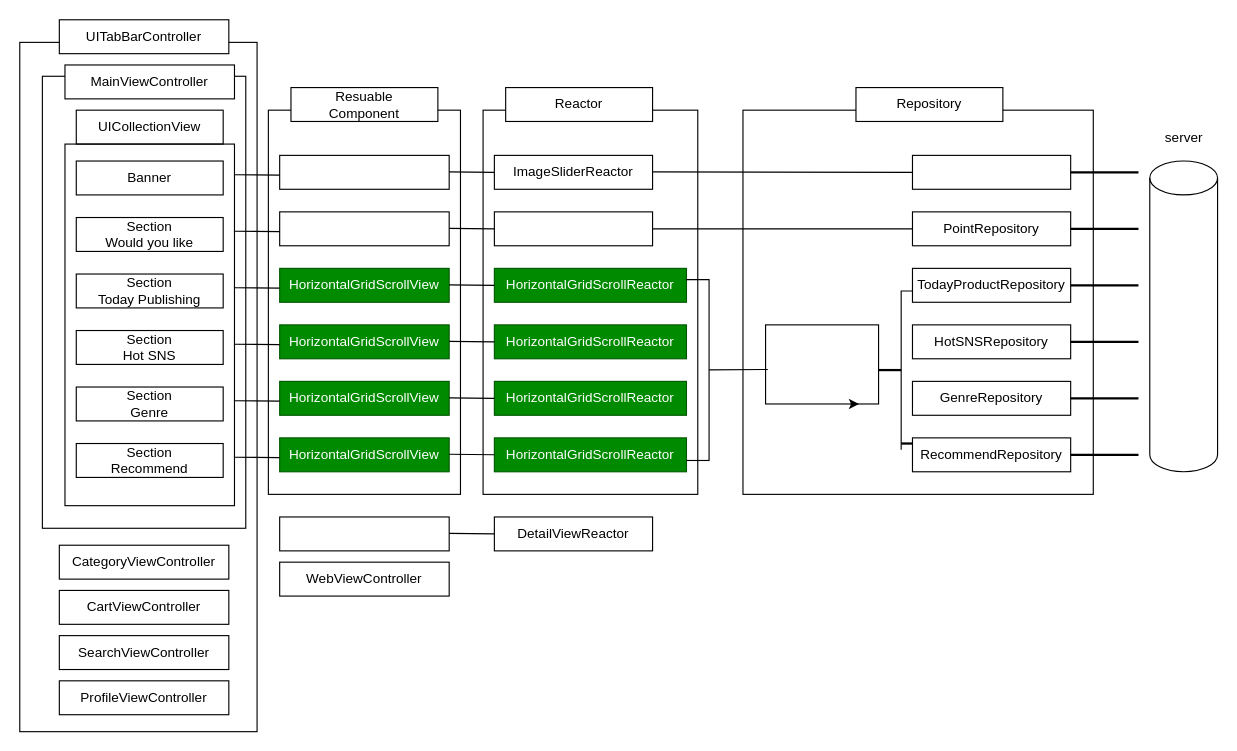
The diagram is 1237 pixels wide and 751 high, and some of its shapes have lost their labels. Here are the shapes that lost their labels. From the top down, the box of each, then its label:
(279, 154, 449, 189): ImageSliderView
(911, 154, 1071, 189): BannerRepository
(279, 211, 449, 246): ChipSectionView
(493, 211, 653, 246): ChipsSelectionReactor
(764, 324, 879, 404): ProductCommon Respository
(279, 516, 449, 551): DetailViewController
